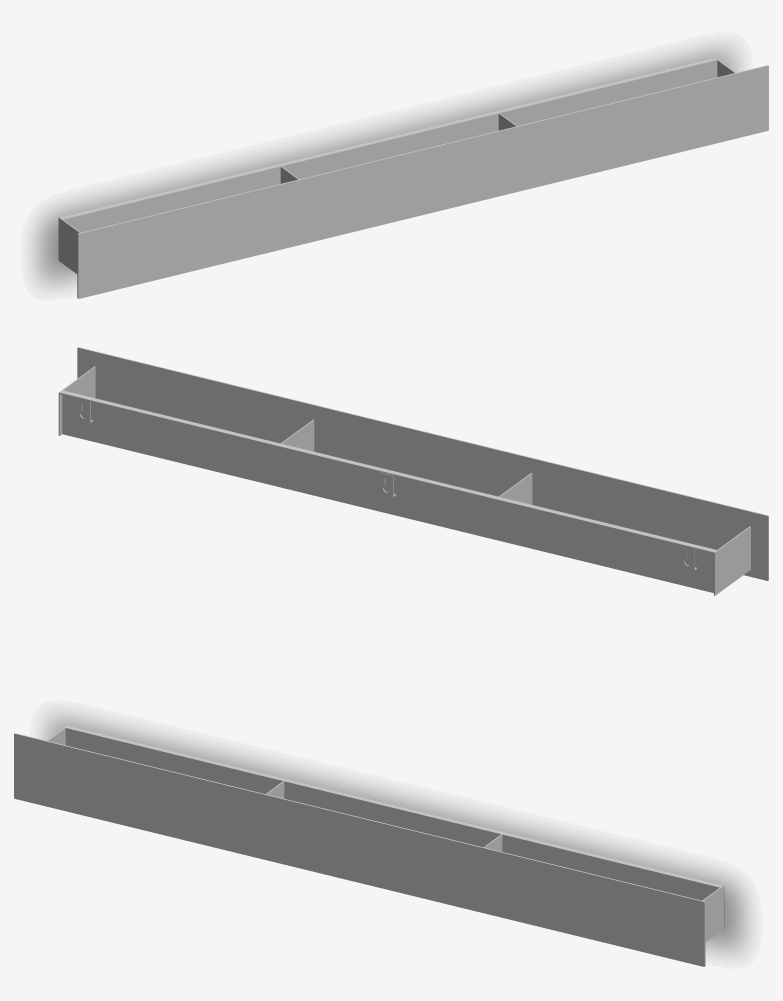
The model's file is skyline-mono.2b16110089.ar.glb.
The picture shows the model from 3 angles, top to bottom: view 1: azimuth 30°, elevation 25°; view 2: azimuth 150°, elevation 25°; view 3: azimuth 330°, elevation 25°; orthographic projection.
Visible parts, largest first — view 1: NAUO1, object 2; view 2: NAUO1; view 3: NAUO1, object 2.
Boxes of the visible parts, x1,y1,x2,y2 form: NAUO1: [58, 57, 768, 298]; object 2: [34, 47, 738, 285]; NAUO1: [58, 347, 768, 595]; NAUO1: [14, 725, 724, 966]; object 2: [44, 715, 748, 953].
Size of the model in its own units: 1.08 by 0.17 by 0.0926.
Materials: 2 (1 with a texture image).
